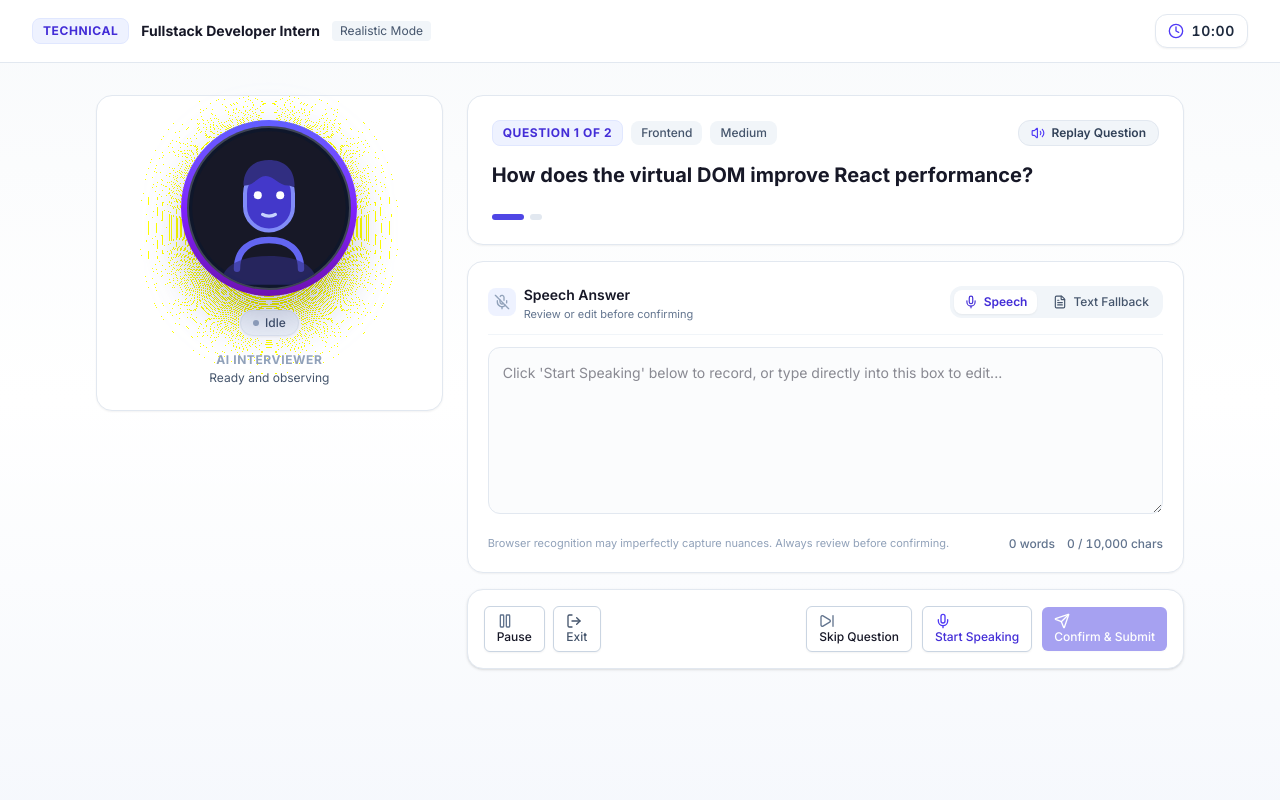
Test: InterviewRoomPage Full Integration › handles network failure gracefully by retaining draft in sessionStorage and showing retry banner
The width and height of the screenshot is (1280, 800).
Check: the heading "How does the virtual DOM improve React performance?" is shown, box [492, 163, 1033, 187]
Replace the text in the text box named "answer transcript and editor" with "My important answer text" at (825, 430), box [488, 347, 1163, 514]
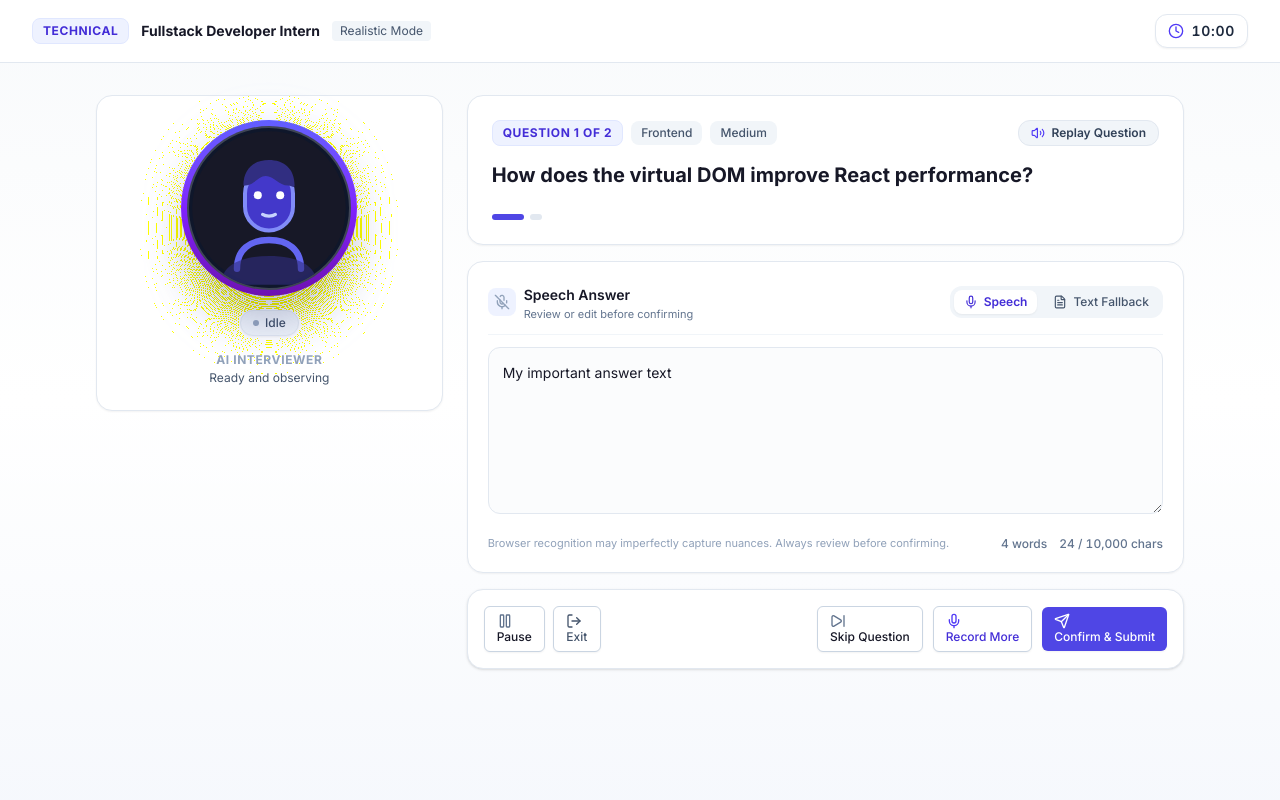
Click the button "Confirm & Submit".
click(1105, 628)  # box [1042, 606, 1167, 650]
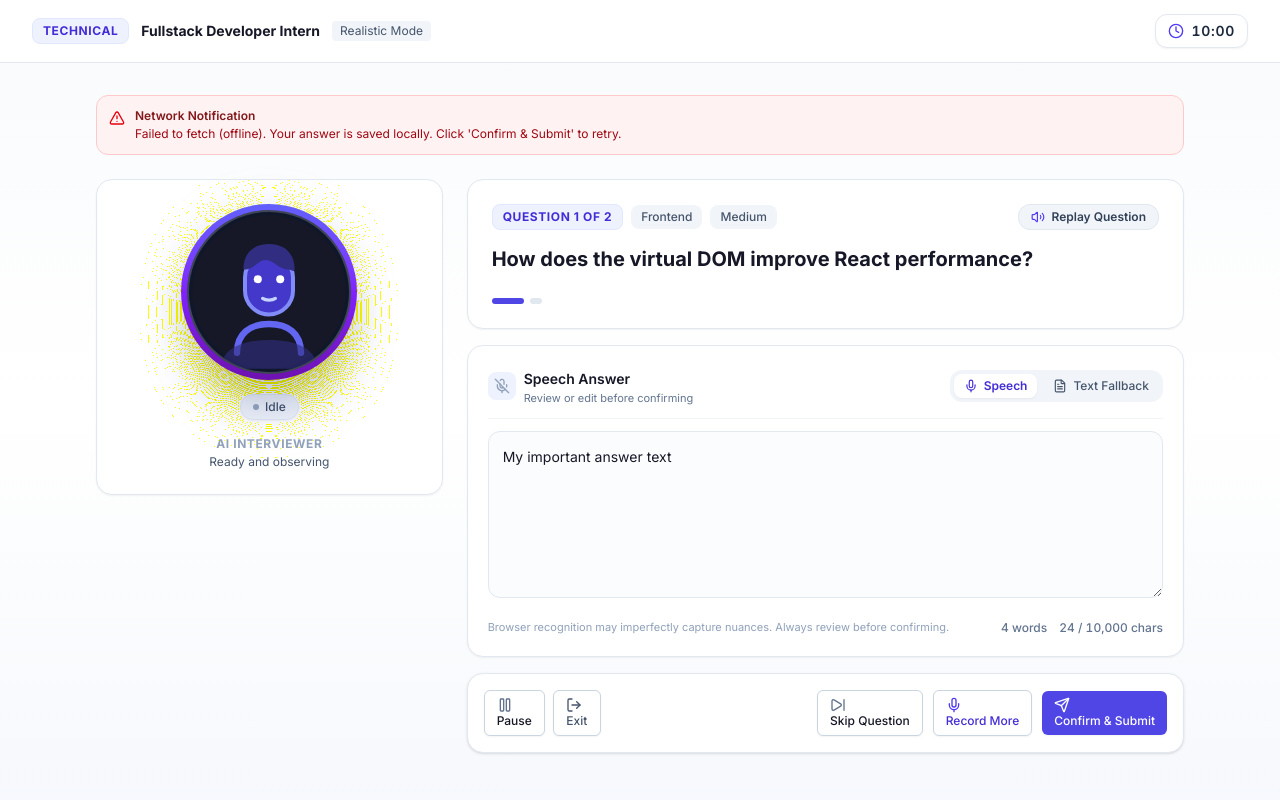
Check: the message is shown, box [96, 95, 1184, 155]
Check: the text "your answer is saved locally. click 'confirm & submit' to retry." is shown, box [135, 126, 622, 141]
